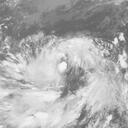cyclone: (34, 35, 91, 93)
